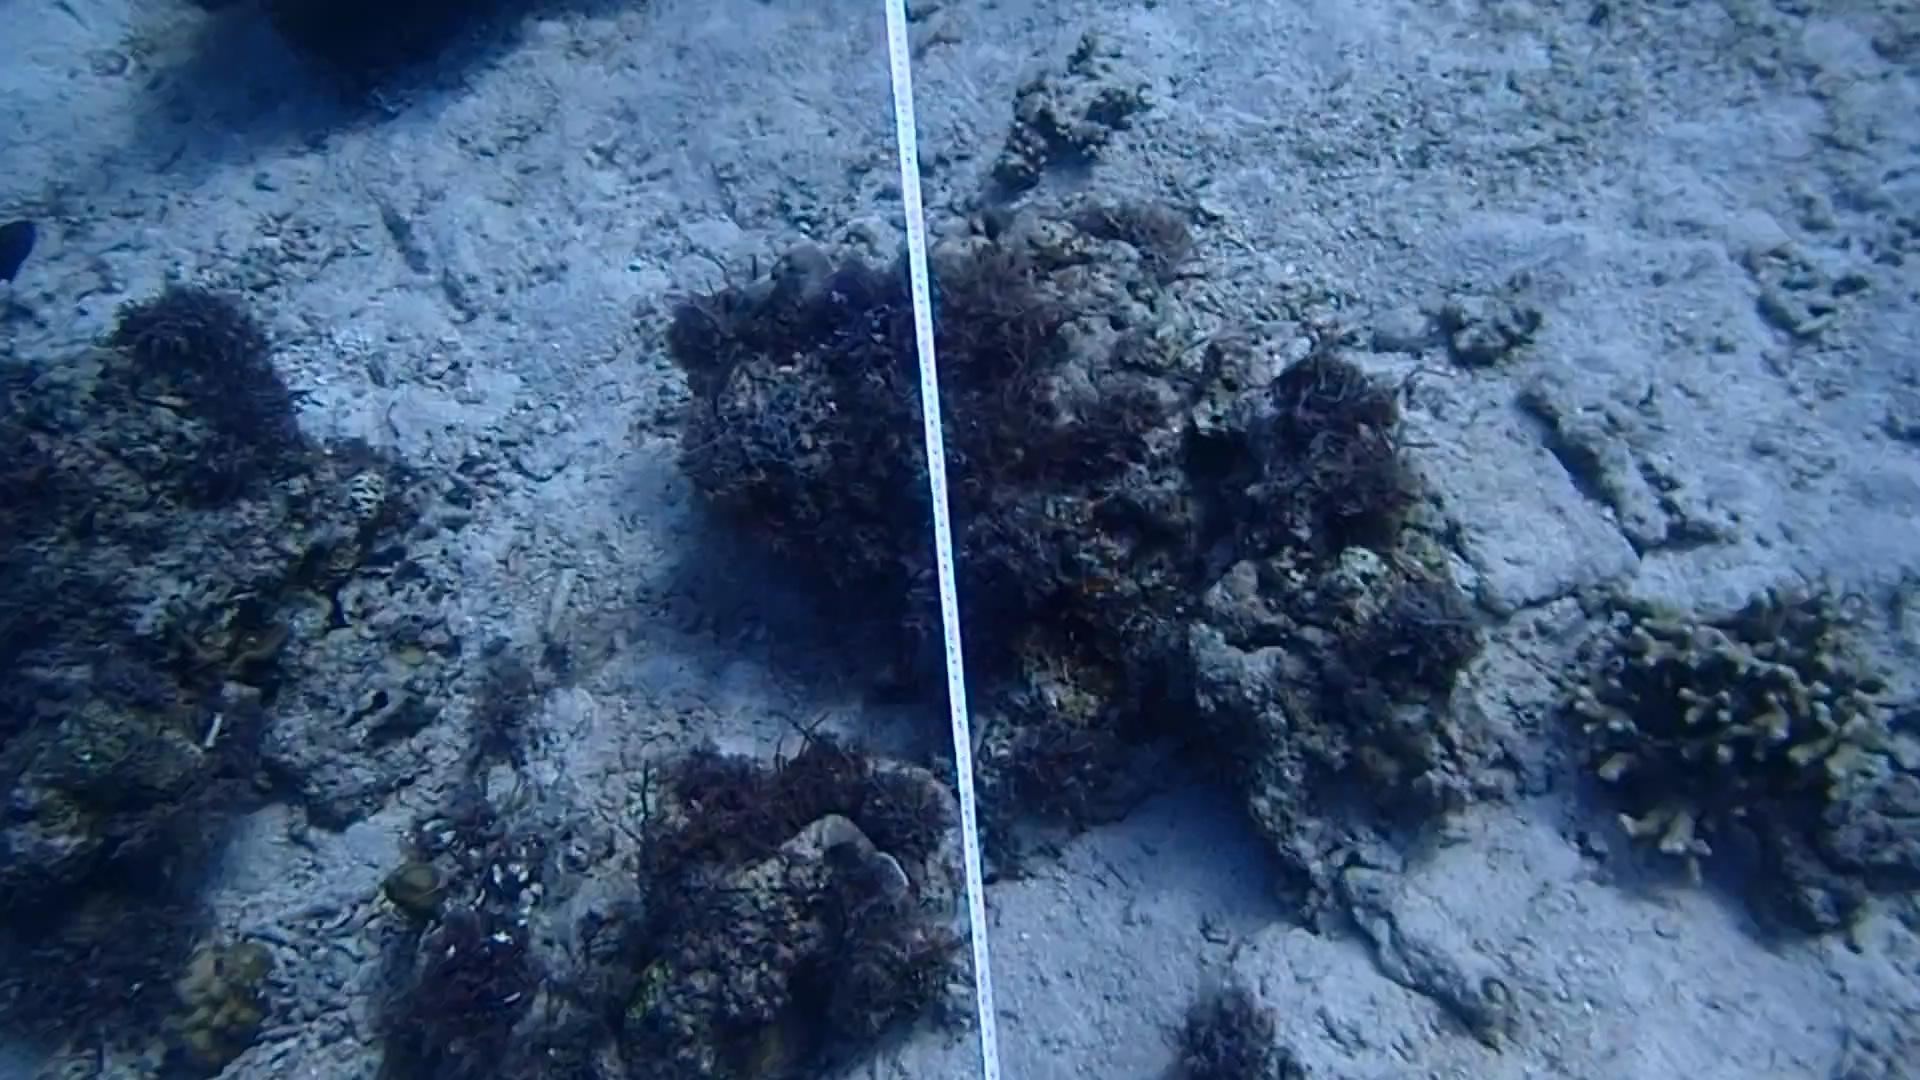Dark Fish: (0, 206, 46, 291)
